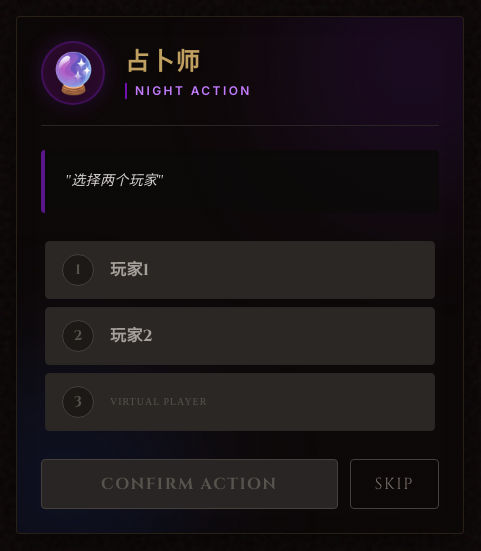
Test: NightActionPanel › choose_two_players 类型：应该允许选择两个玩家 | choose_two_players type: should allow selecting two players
The width and height of the screenshot is (481, 551).
Click the text "玩家1": [130, 270] box [110,258,150,282]
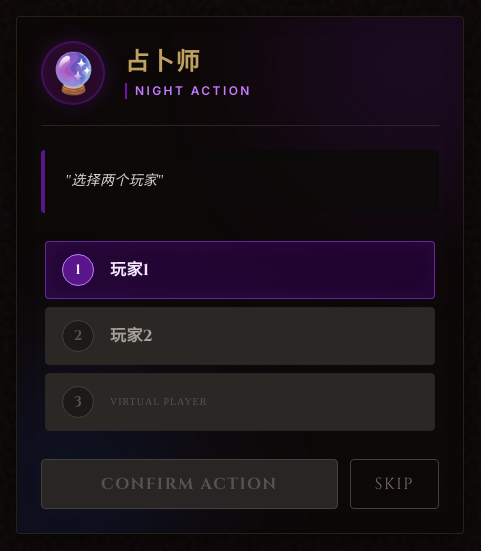
Click the text "玩家2": [132, 336] box [110,324,153,348]
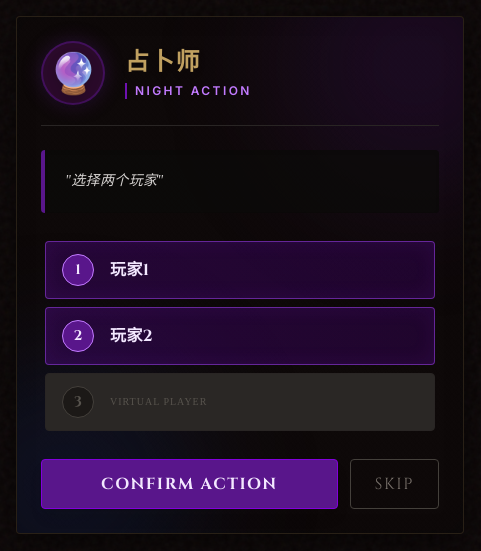
Expected: the button "Confirm Action" is enabled, [41,459,338,509]
